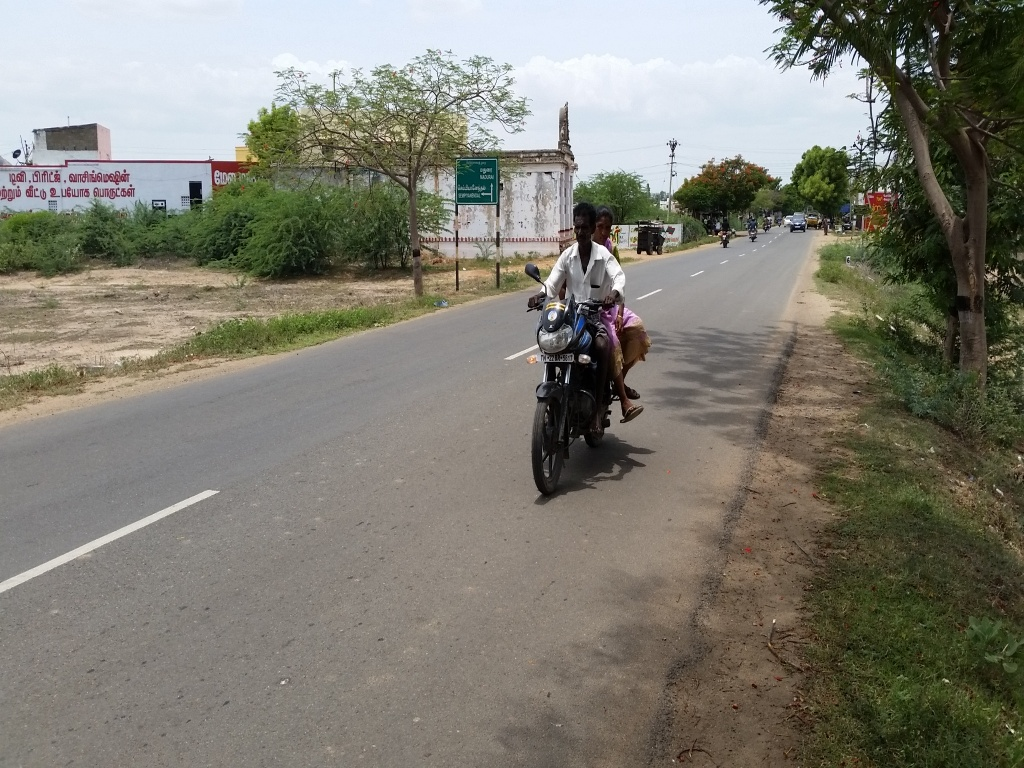biker: (492, 170, 675, 509)
nohelmet: (568, 192, 595, 265), (593, 201, 622, 255)
